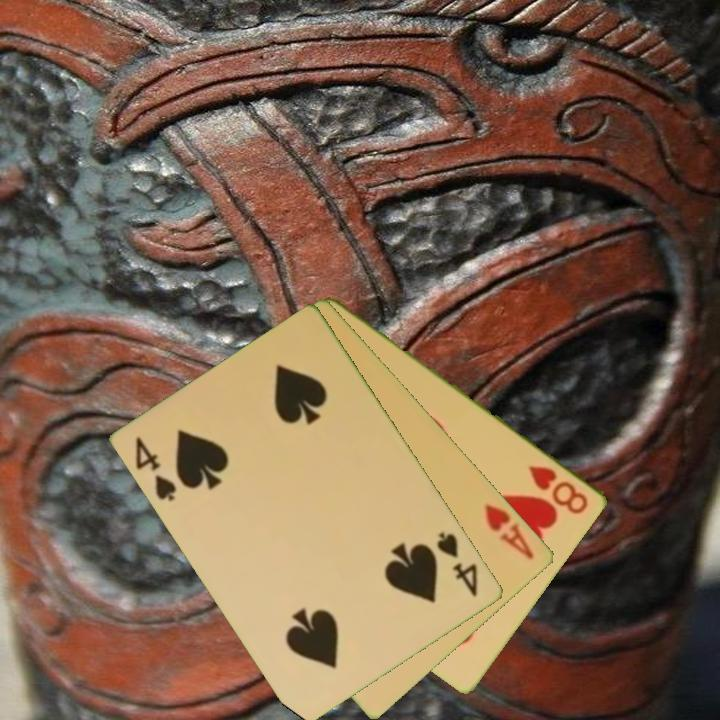4s: (433, 528, 482, 600), (132, 433, 180, 505)
8h: (525, 462, 592, 517)
Ah: (481, 500, 538, 562)
